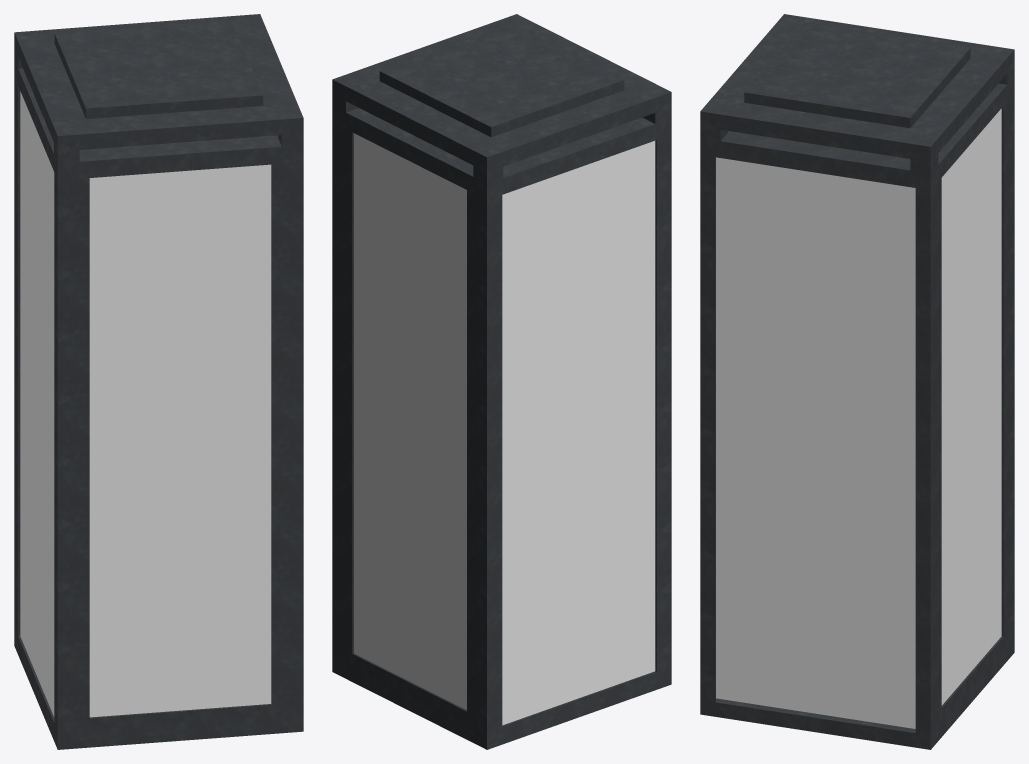
3 views of the same model, side by side, from view 1: azimuth 30°, elevation 25°; view 2: azimuth 150°, elevation 25°; view 3: azimuth 270°, elevation 25° (orthographic). The views are drawn at different scales.
Parts seen in each view (by area): view 1: SM_BGBuilding2; view 2: SM_BGBuilding2; view 3: SM_BGBuilding2.
Part boxes in pixels (x1,y1,x2,y2): SM_BGBuilding2: (14,14,303,749); SM_BGBuilding2: (332,14,671,749); SM_BGBuilding2: (700,14,1014,749).
Bounding box in the file's own units: 43.45 × 93.57 × 43.45.
